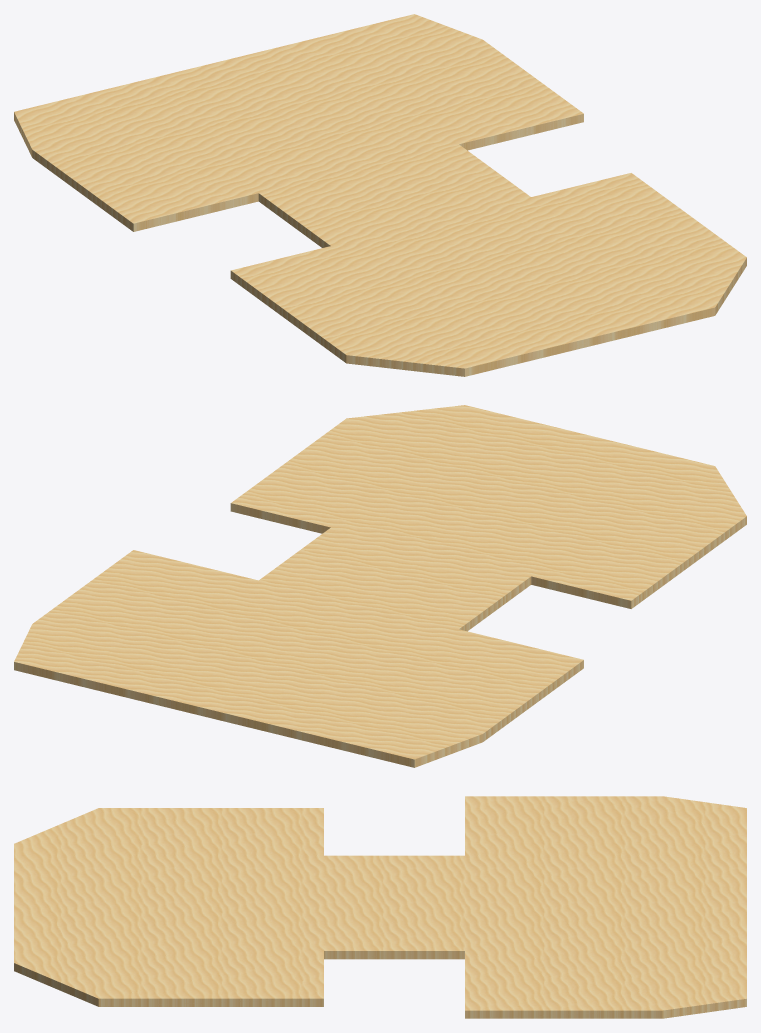
Rendered from seabed-03-BhsXRdXT.glb.
3 views of the same model, one above another, from view 1: azimuth 30°, elevation 25°; view 2: azimuth 150°, elevation 25°; view 3: azimuth 270°, elevation 25° (orthographic). The views are drawn at different scales.
Visible parts, largest first — view 1: SW_SandShelf; view 2: SW_SandShelf; view 3: SW_SandShelf.
Boxes of the visible parts, x1,y1,x2,y2 form: SW_SandShelf: (14, 14, 746, 376); SW_SandShelf: (14, 405, 746, 767); SW_SandShelf: (14, 796, 746, 1018).
Size of what is drawn, in the model's own units: 18 by 0.32 by 26.
1 material, 1 textured.
